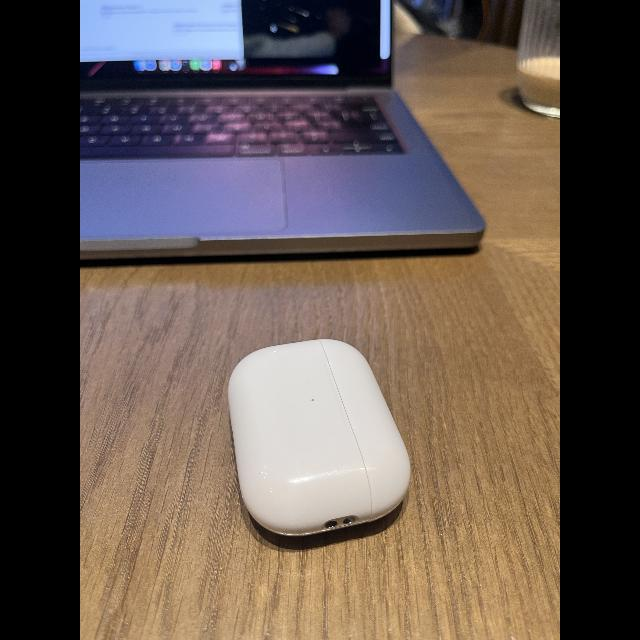AirPods Pro: (218, 329, 414, 555)
